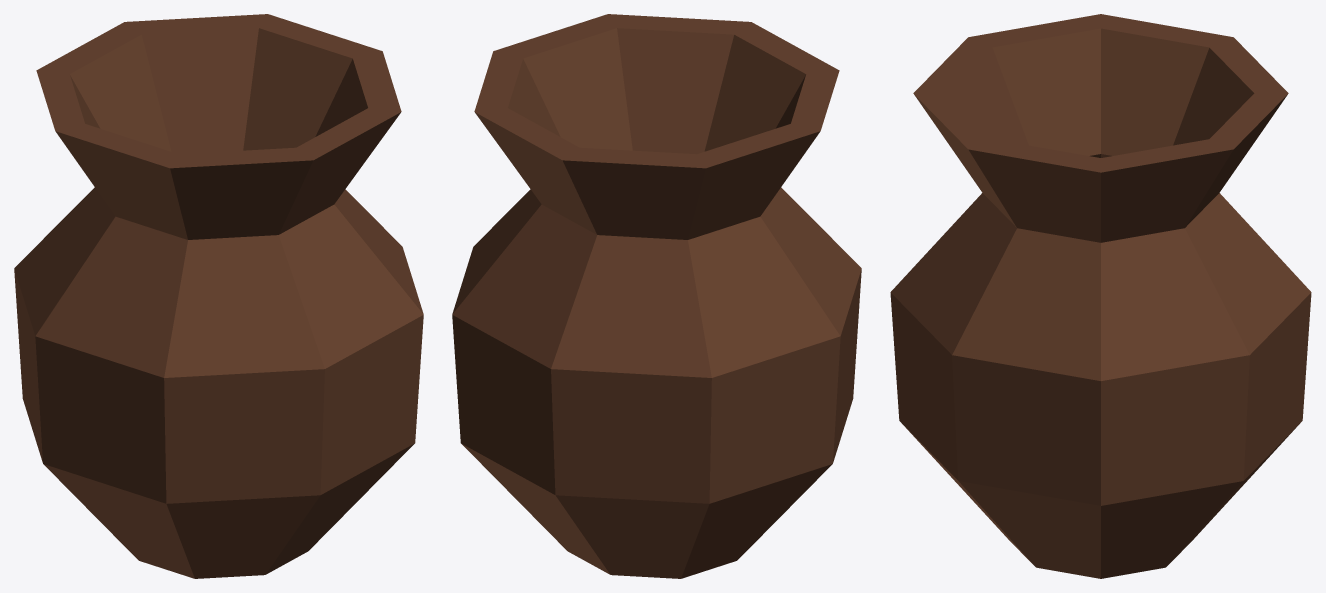
Rendered from Jug.fbx.
The picture shows the model from 3 angles, left to right: view 1: azimuth 30°, elevation 25°; view 2: azimuth 150°, elevation 25°; view 3: azimuth 270°, elevation 25°; orthographic projection.
Parts seen in each view (by area): view 1: Honey; view 2: Honey; view 3: Honey.
Part boxes in pixels (left/top/right/bottom): Honey: left=14, top=14, right=423, bottom=578; Honey: left=452, top=14, right=861, bottom=578; Honey: left=890, top=14, right=1311, bottom=578.
Bounding box in the file's own units: 1.92 × 2.25 × 1.92.
